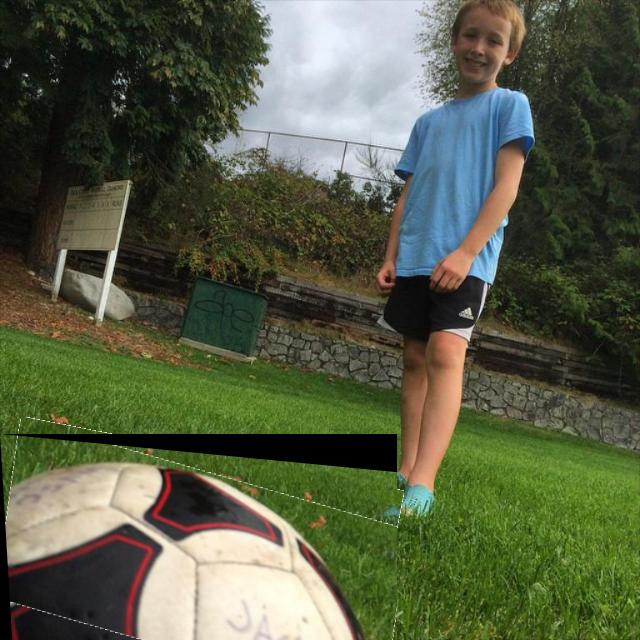Football: (0, 434, 397, 640)
